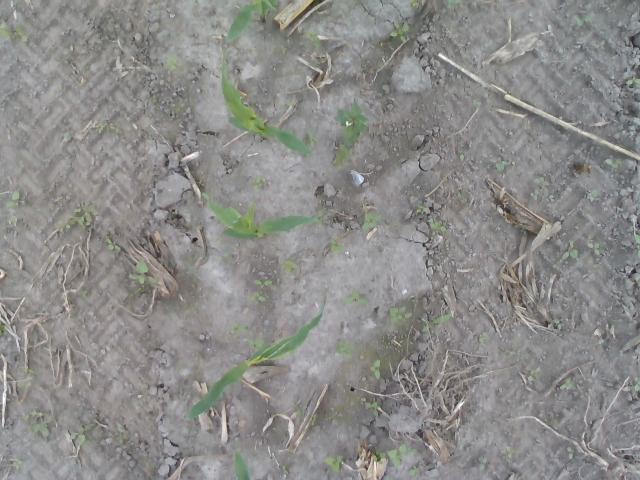Maize: (186, 297, 328, 420), (222, 59, 314, 156), (204, 192, 320, 243), (224, 0, 280, 43), (234, 450, 252, 480)
Weeds: (331, 102, 370, 169), (124, 256, 160, 300), (59, 202, 97, 233), (373, 442, 416, 469), (0, 14, 29, 43), (19, 404, 49, 432), (389, 16, 417, 43), (352, 394, 380, 418), (384, 303, 414, 325), (421, 312, 452, 333), (360, 207, 384, 232), (70, 423, 96, 445), (4, 189, 32, 209), (341, 287, 370, 306), (323, 454, 347, 475), (335, 335, 353, 360), (427, 219, 448, 240), (560, 238, 576, 265), (95, 120, 120, 137), (279, 258, 298, 280), (524, 364, 544, 384), (603, 158, 624, 176), (103, 233, 121, 253), (585, 239, 605, 257), (558, 374, 578, 392), (248, 333, 268, 350), (573, 12, 593, 28), (112, 424, 128, 444), (250, 277, 276, 289), (367, 358, 381, 380), (165, 52, 178, 75), (174, 96, 190, 114), (304, 30, 320, 48), (247, 292, 270, 304), (8, 455, 24, 472), (252, 174, 266, 192), (330, 238, 344, 256), (496, 158, 512, 172), (232, 323, 250, 335), (532, 174, 544, 192), (633, 228, 640, 257), (502, 447, 520, 458), (629, 376, 640, 394), (150, 94, 164, 106), (280, 463, 289, 480), (479, 455, 488, 472), (5, 214, 17, 226), (624, 78, 640, 87), (446, 0, 464, 8), (590, 190, 602, 202), (552, 319, 564, 331), (529, 192, 543, 202), (16, 382, 32, 390), (0, 320, 8, 336), (78, 286, 88, 298), (416, 204, 426, 215), (20, 367, 32, 376), (567, 447, 575, 460), (478, 334, 488, 344), (311, 416, 319, 427), (592, 40, 600, 50), (296, 406, 304, 416), (408, 0, 416, 10), (407, 468, 417, 476), (64, 130, 72, 140), (635, 273, 640, 285), (459, 152, 465, 161)
